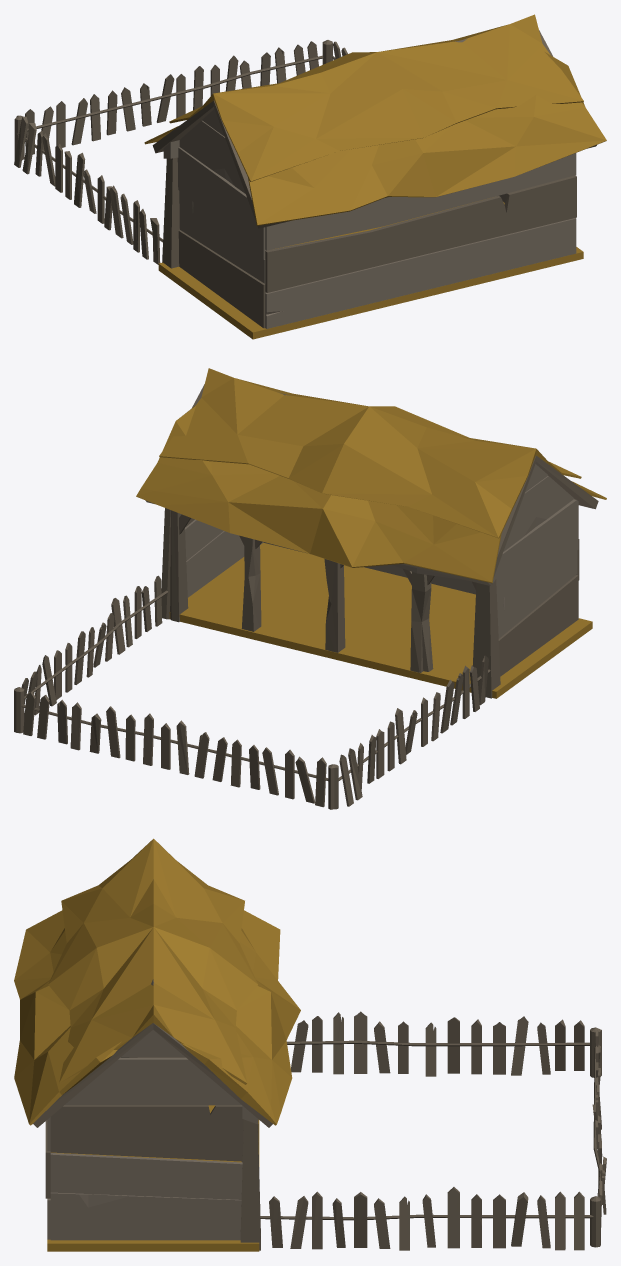
File: Stable.glb
3 views of the same model, one above another, from view 1: azimuth 30°, elevation 25°; view 2: azimuth 150°, elevation 25°; view 3: azimuth 270°, elevation 25° (orthographic). The views are drawn at different scales.
Parts seen in each view (by area): view 1: STABLE; view 2: STABLE; view 3: STABLE.
Part boxes in pixels (x1=…): STABLE: x1=14, y1=14, x2=606, y2=339; STABLE: x1=14, y1=368, x2=606, y2=809; STABLE: x1=14, y1=838, x2=606, y2=1251.
Bounding box in the file's own units: 8.93 × 5.13 × 11.61.
1 material, 1 textured.
